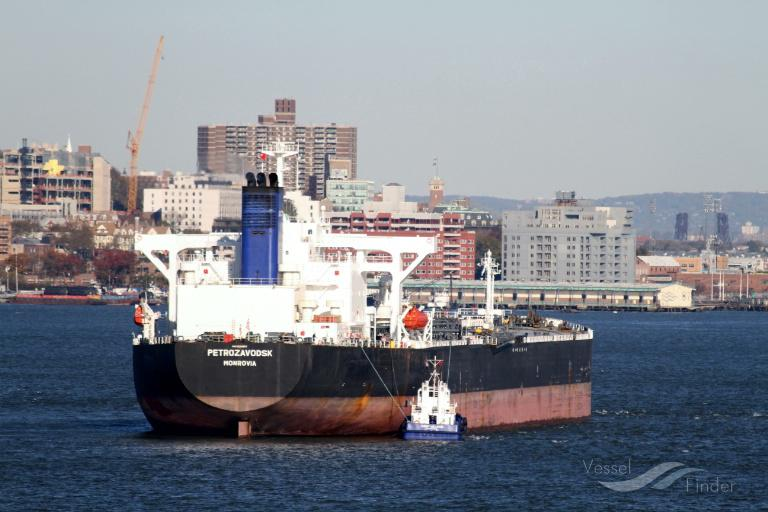OCR: (202, 340, 276, 371)
